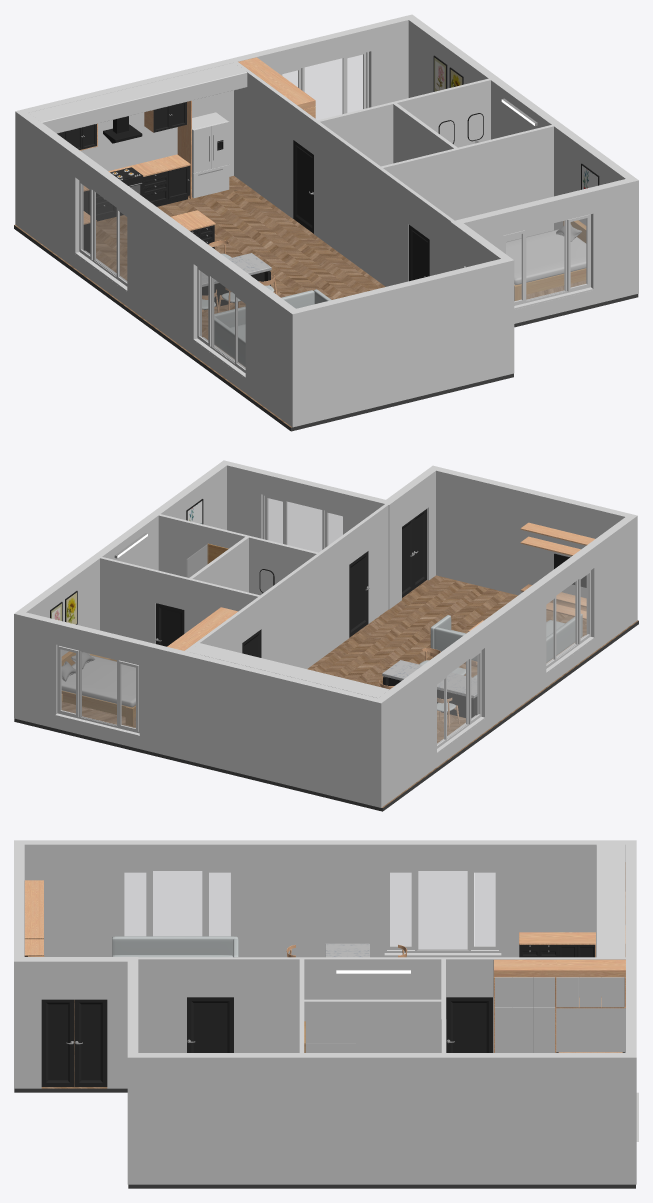
File: scandinavian_interior_v01.glb
3 views of the same model, one above another, from view 1: azimuth 30°, elevation 25°; view 2: azimuth 150°, elevation 25°; view 3: azimuth 270°, elevation 25° (orthographic). The views are drawn at different scales.
Visible parts, largest first — view 1: Plane.001, Plane.002, Floor, Glass, Plane.057, Plane.007, Plane.035, Cube, Plane.088, Plane.110, Plane.038, Plane.027 (+7 smaller); view 2: Plane.001, Plane.002, Floor, Glass, Plane.057, Plane.110, Plane.007, Plane.015, Plane.030, Plane.027, Plane.031, Plane.035 (+4 smaller); view 3: Plane.001, Plane.002, Glass, Plane.110, Plane.074, Plane.057, Plane.035, Plane.007, Floor, Plane.027, Plane.030, Plane.038 (+2 smaller).
Boxes of the visible parts, x1=… form: Plane.001: x1=15, y1=14, x2=638, y2=427; Plane.002: x1=234, y1=61, x2=553, y2=286; Floor: x1=14, y1=176, x2=638, y2=431; Glass: x1=81, y1=55, x2=586, y2=368; Plane.057: x1=75, y1=52, x2=593, y2=378; Plane.007: x1=29, y1=63, x2=247, y2=133; Plane.035: x1=79, y1=57, x2=315, y2=230; Cube: x1=192, y1=112, x2=229, y2=198; Plane.088: x1=506, y1=229, x2=586, y2=284; Plane.110: x1=293, y1=140, x2=429, y2=281; Plane.038: x1=83, y1=166, x2=189, y2=253; Plane.027: x1=214, y1=289, x2=331, y2=366; Plane.001: x1=14, y1=460, x2=637, y2=807; Plane.002: x1=100, y1=504, x2=388, y2=668; Floor: x1=14, y1=575, x2=638, y2=811; Glass: x1=61, y1=498, x2=588, y2=744; Plane.057: x1=55, y1=494, x2=594, y2=753; Plane.110: x1=156, y1=509, x2=426, y2=657; Plane.007: x1=188, y1=643, x2=389, y2=697; Plane.015: x1=61, y1=655, x2=135, y2=707; Plane.030: x1=520, y1=522, x2=594, y2=619; Plane.027: x1=430, y1=614, x2=582, y2=662; Plane.031: x1=382, y1=660, x2=477, y2=698; Plane.035: x1=167, y1=607, x2=237, y2=650; Plane.001: x1=14, y1=840, x2=636, y2=1184; Plane.002: x1=138, y1=957, x2=625, y2=1052; Glass: x1=125, y1=871, x2=495, y2=949; Plane.110: x1=41, y1=997, x2=492, y2=1086; Plane.074: x1=495, y1=977, x2=624, y2=1052; Plane.057: x1=119, y1=869, x2=638, y2=1141; Plane.035: x1=493, y1=862, x2=625, y2=1052; Plane.007: x1=596, y1=844, x2=625, y2=957; Floor: x1=14, y1=1000, x2=635, y2=1188; Plane.027: x1=112, y1=936, x2=238, y2=957; Plane.030: x1=24, y1=880, x2=44, y2=956; Plane.038: x1=519, y1=945, x2=595, y2=957.
Bounding box in the file's own units: 11.06 × 3.1 × 13.38.
Materials: 36 (8 with a texture image).
